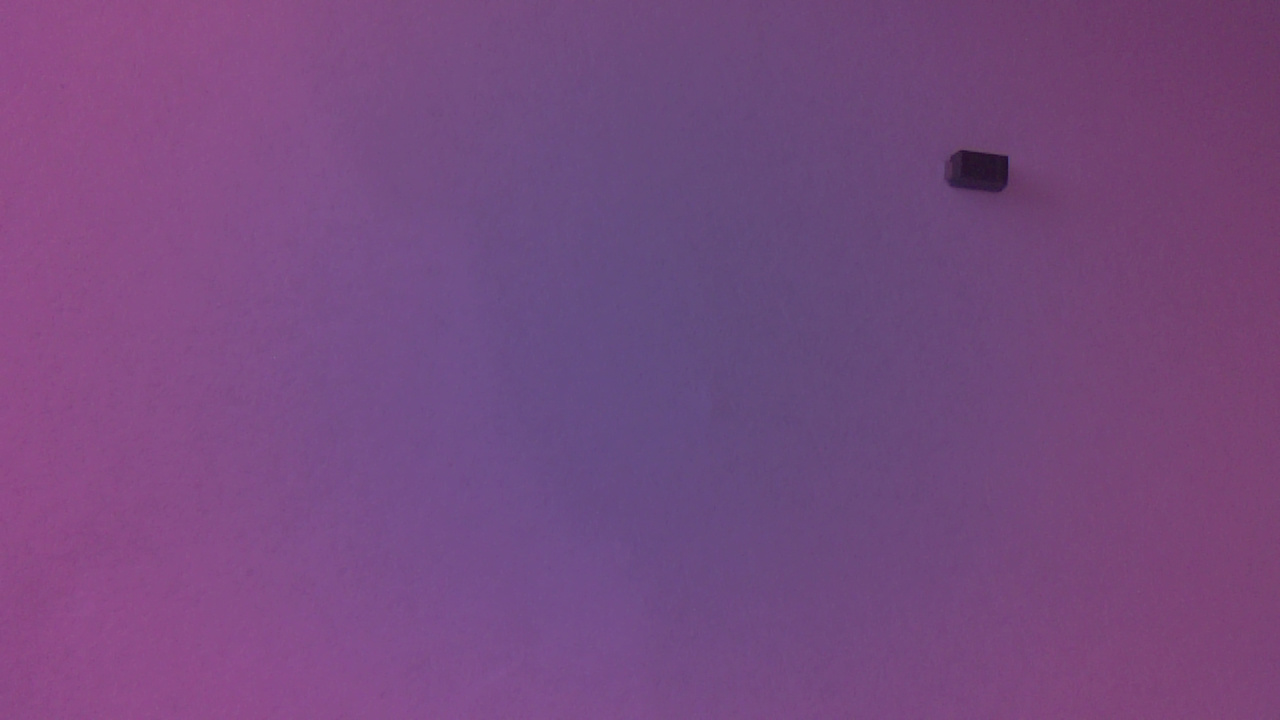Diode: (933, 149, 1022, 202)
